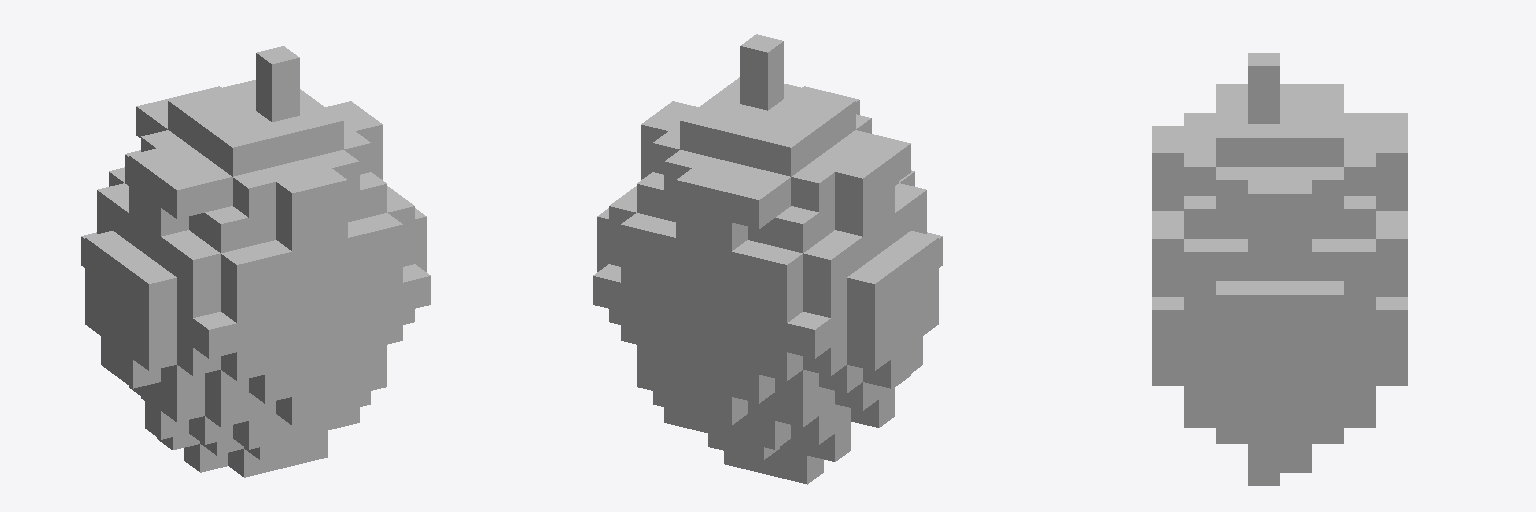
File: strawberry.obj
The picture shows the model from 3 angles: view 1: azimuth 30°, elevation 25°; view 2: azimuth 150°, elevation 25°; view 3: azimuth 270°, elevation 25°; orthographic projection.
Visible parts, largest first — view 1: object 1; view 2: object 1; view 3: object 1.
Part boxes in pixels (x1,y1,x2,y2): object 1: (81,46,430,477); object 1: (593,34,942,484); object 1: (1152,53,1407,485).
Bounding box in the file's own units: 2 × 2.8 × 1.6.